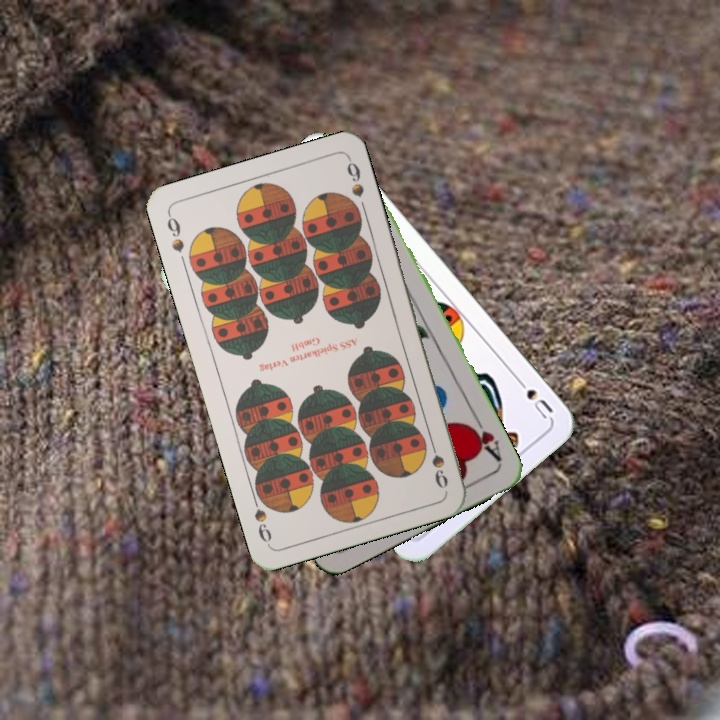HA: (463, 410, 504, 464)
S9: (425, 433, 451, 491), (163, 209, 187, 256)
SU: (510, 371, 556, 422)
